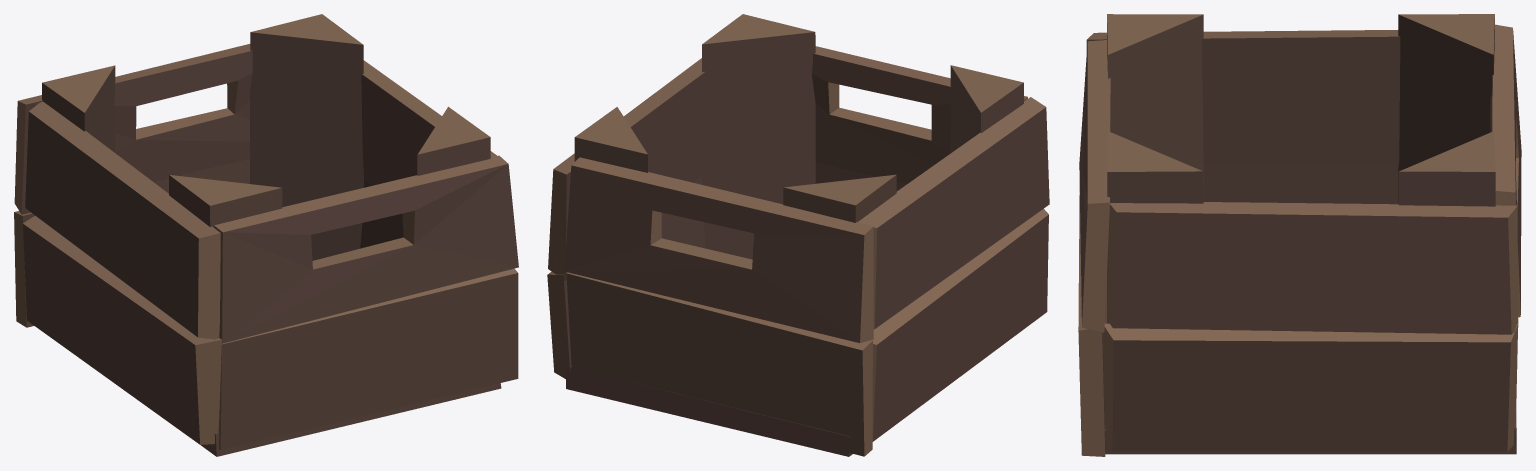
The model's file is Crate_2.fbx.
The picture shows the model from 3 angles, left to right: view 1: azimuth 30°, elevation 25°; view 2: azimuth 150°, elevation 25°; view 3: azimuth 270°, elevation 25°; orthographic projection. The views are drawn at different scales.
Visible parts, largest first — view 1: Crate_2; view 2: Crate_2; view 3: Crate_2.
Part boxes in pixels (box(x1,y1,x2,y2)): Crate_2: box(14, 14, 518, 456); Crate_2: box(547, 14, 1049, 456); Crate_2: box(1078, 14, 1521, 456).
Bounding box in the file's own units: 15.75 × 11.49 × 16.29.
